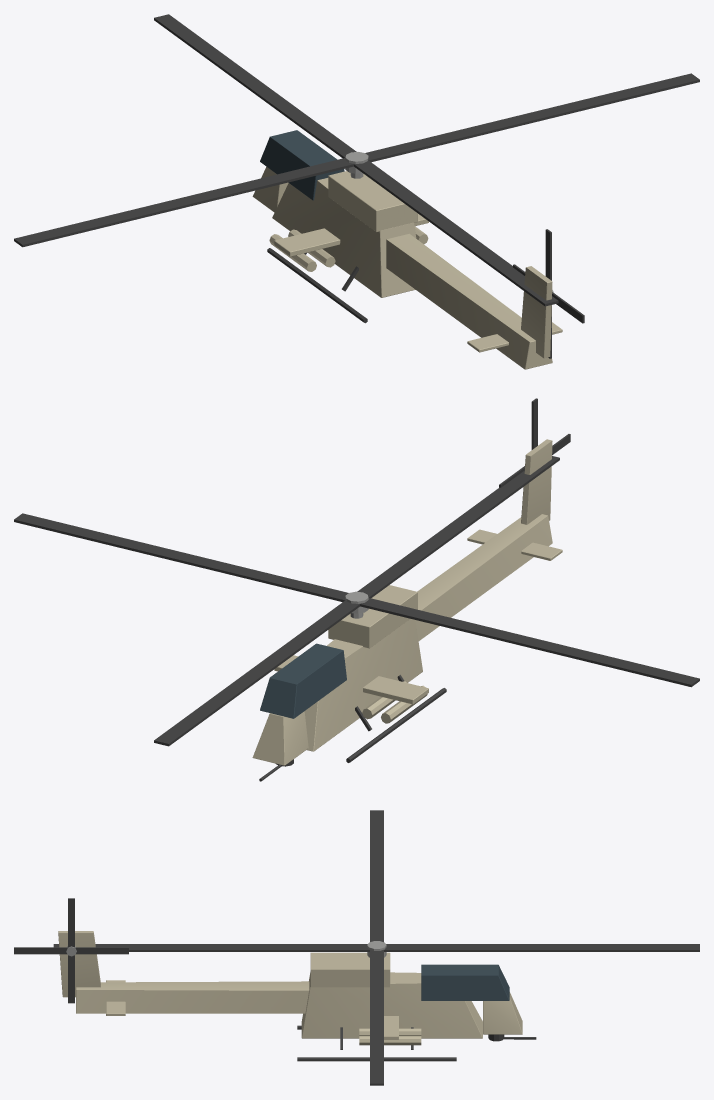
File: usa_heli_ah1z.glb
The picture shows the model from 3 angles, top to bottom: view 1: azimuth 30°, elevation 25°; view 2: azimuth 150°, elevation 25°; view 3: azimuth 270°, elevation 25°; orthographic projection. The views are drawn at different scales.
Parts seen in each view (by area): view 1: body, rotor, trotor; view 2: body, rotor, trotor; view 3: body, rotor, trotor.
Part boxes in pixels (x1,y1,x2,y2): body: [252, 130, 562, 369]; rotor: [14, 14, 699, 306]; trotor: [513, 229, 584, 358]; body: [252, 439, 562, 781]; rotor: [14, 456, 699, 746]; trotor: [499, 398, 570, 487]; body: [58, 931, 536, 1061]; rotor: [53, 810, 699, 1085]; trotor: [14, 898, 128, 1003].
Bounding box in the file's own units: 14.6 × 3.73 × 15.5.
